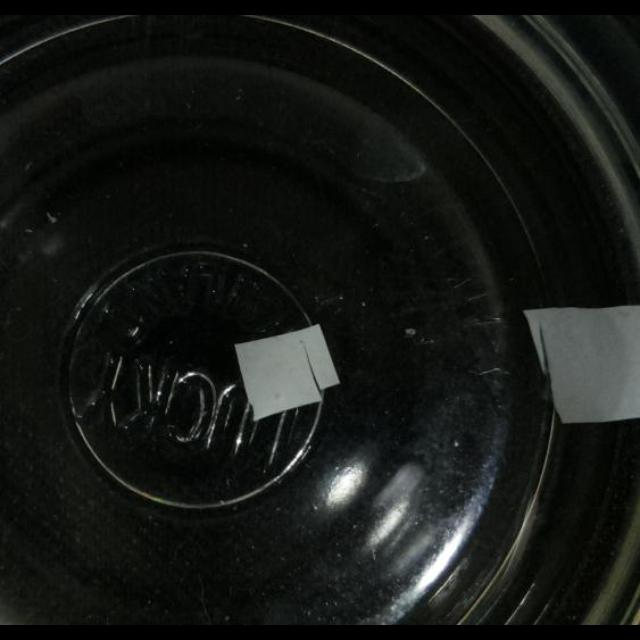Fragment: (522, 302, 640, 421), (230, 318, 344, 422)
